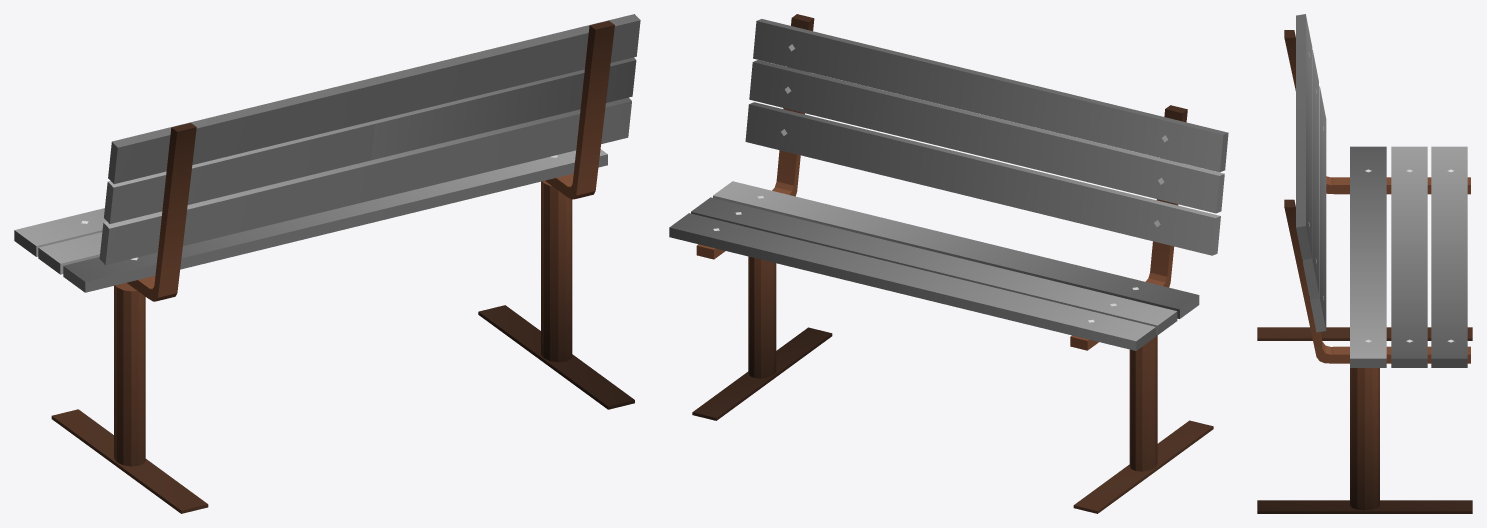
File: SM_Bench_White_Color.fbx
The picture shows the model from 3 angles, left to right: view 1: azimuth 30°, elevation 25°; view 2: azimuth 150°, elevation 25°; view 3: azimuth 270°, elevation 25°; orthographic projection. The views are drawn at different scales.
Visible parts, largest first — view 1: Bench_White_Color_mash; view 2: Bench_White_Color_mash; view 3: Bench_White_Color_mash.
Boxes of the visible parts, <box> form: Bench_White_Color_mash: <box>14,14,640,513</box>; Bench_White_Color_mash: <box>669,14,1228,513</box>; Bench_White_Color_mash: <box>1257,14,1472,513</box>.
Size of the model in its own units: 4 by 2.68 by 1.72.
